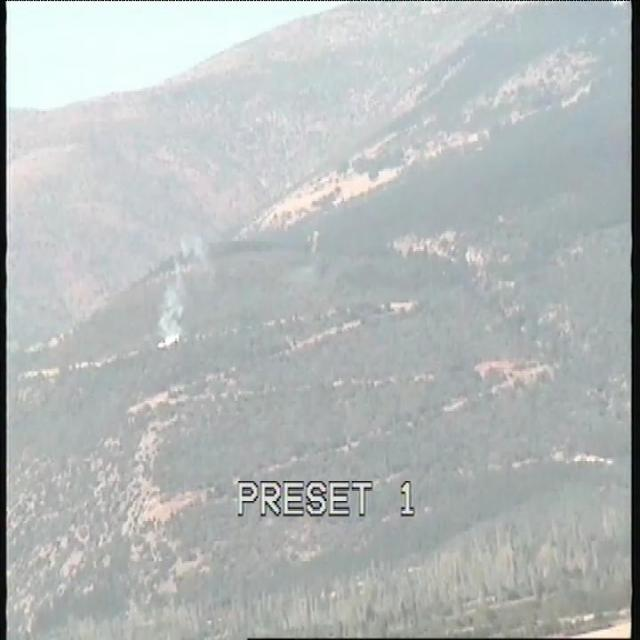smoke: (151, 248, 217, 343)
